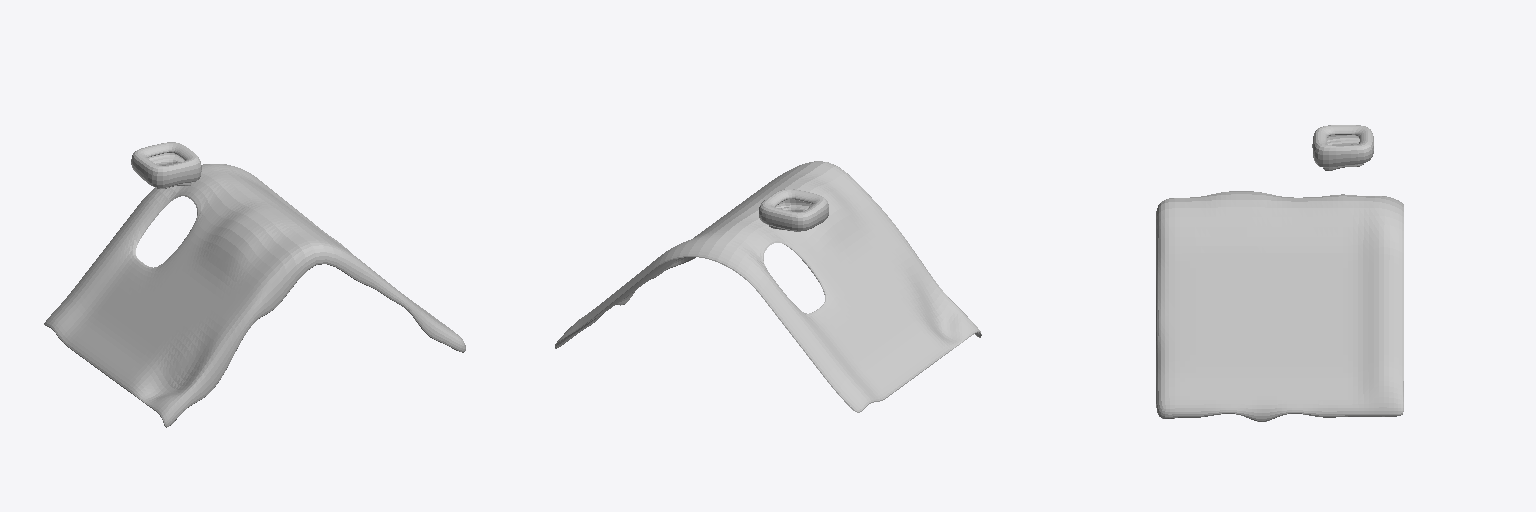
File: cottage snow.obj
3 views of the same model, side by side, from view 1: azimuth 30°, elevation 25°; view 2: azimuth 150°, elevation 25°; view 3: azimuth 270°, elevation 25° (orthographic).
Visible parts, largest first — view 1: snow_roof_Plane.073; view 2: snow_roof_Plane.073; view 3: snow_roof_Plane.073.
Part boxes in pixels (left/top/right/bottom): snow_roof_Plane.073: left=44, top=142, right=465, bottom=427; snow_roof_Plane.073: left=555, top=161, right=981, bottom=412; snow_roof_Plane.073: left=1156, top=125, right=1403, bottom=421.
Bounding box in the file's own units: 8.69 × 4.98 × 6.09.